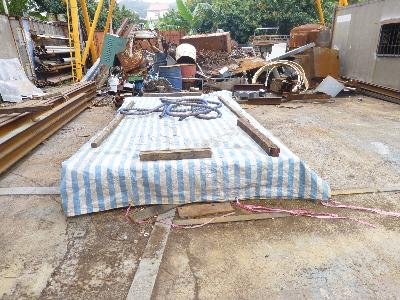bucket: (156, 63, 184, 93), (174, 43, 199, 64), (176, 61, 196, 82)
plastic_bag: (111, 115, 246, 153)
